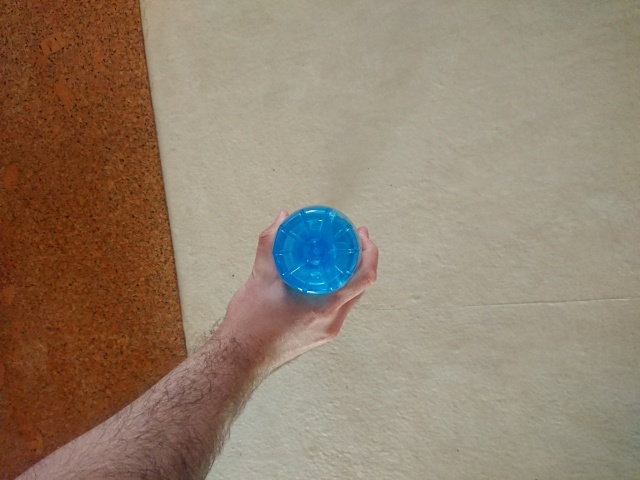Vindi Iso Sport Forest Strawberries 500mL: (270, 203, 364, 299)
